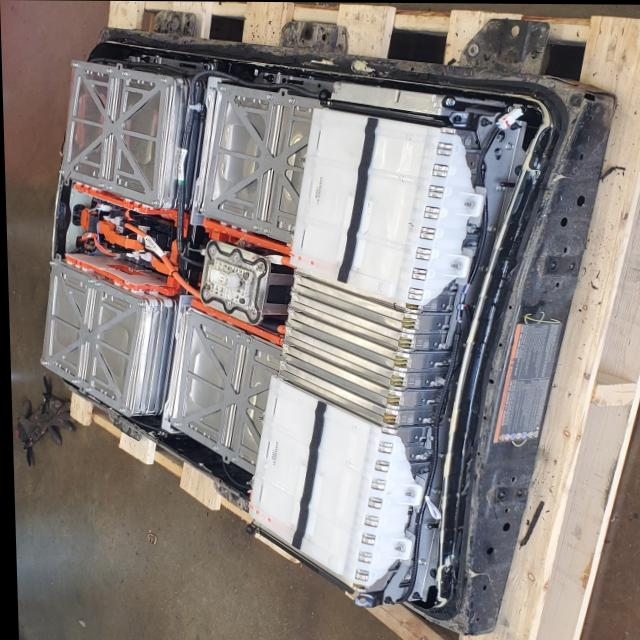Battery Module: (289, 111, 428, 293), (246, 383, 369, 565), (255, 71, 277, 83), (197, 61, 217, 72), (302, 71, 318, 82)
Bolt: (483, 220, 500, 236), (427, 483, 444, 498), (33, 354, 50, 369), (442, 95, 459, 109), (489, 182, 506, 196), (477, 260, 491, 276), (502, 138, 515, 153), (144, 197, 161, 207), (232, 328, 244, 342), (134, 297, 146, 311), (260, 223, 271, 238), (433, 448, 445, 461), (92, 277, 104, 290), (81, 272, 92, 286), (414, 553, 424, 568), (169, 416, 181, 428), (64, 374, 76, 386), (157, 76, 169, 88), (262, 93, 275, 104), (248, 221, 259, 234), (215, 84, 229, 94), (45, 257, 54, 272), (285, 95, 297, 106), (91, 179, 102, 191), (241, 336, 254, 346), (113, 405, 124, 416), (103, 181, 113, 193), (55, 167, 67, 177), (197, 205, 207, 216), (180, 306, 188, 319), (226, 454, 236, 464), (69, 62, 80, 71), (81, 386, 90, 396), (119, 69, 129, 78), (207, 445, 218, 453), (104, 67, 114, 75)
Bus-bar: (204, 103, 307, 227), (63, 75, 162, 195), (189, 298, 275, 343), (96, 217, 163, 272), (72, 182, 164, 215), (202, 220, 289, 254)
Cable: (118, 220, 199, 297)
Nut: (445, 257, 463, 273), (458, 197, 475, 211), (399, 488, 416, 499), (389, 541, 403, 554), (252, 412, 265, 424)
Screw: (477, 115, 494, 132)
